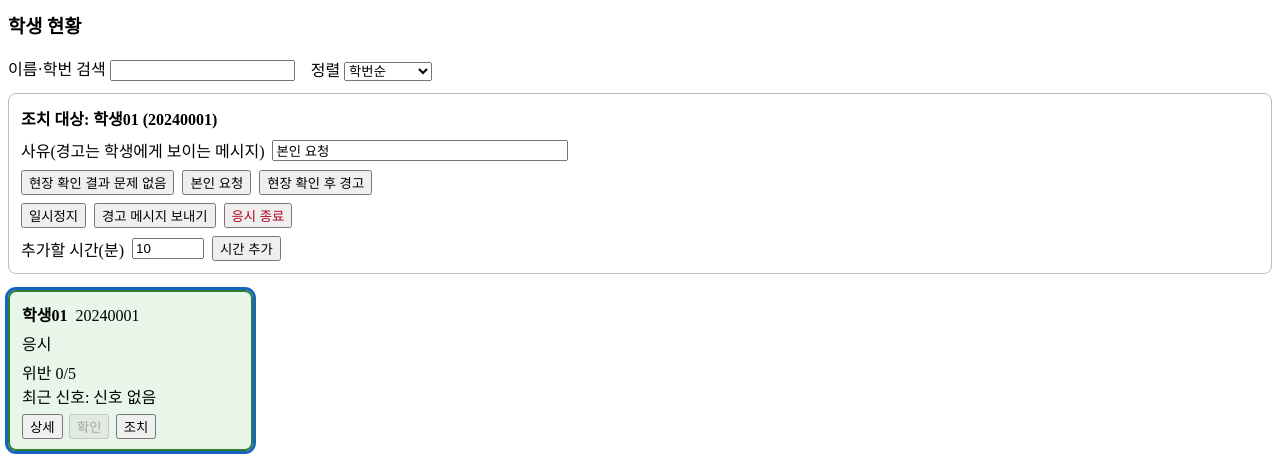
Test: 감독 대시보드 › 시간 추가: 1~60분 정수만 허용한다
This screenshot has width=1280, height=471.
Earlier steps of the test are not shown.
Later steps or results of the test are not shown.
Replace the text in the field labelled "추가할 시간(분)" with "0" at point(168, 249), box [132,238,204,259]
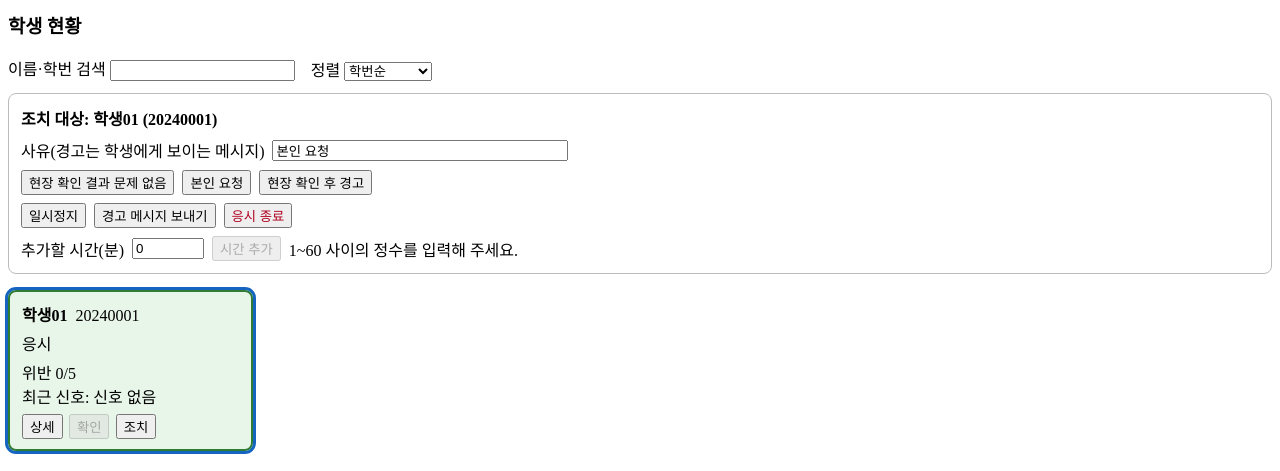
expect the button "시간 추가" is disabled: met, box [212,236,281,261]
Replace the text in the field labelled "추가할 시간(분)" with "61" at point(168, 249), box [132,238,204,259]
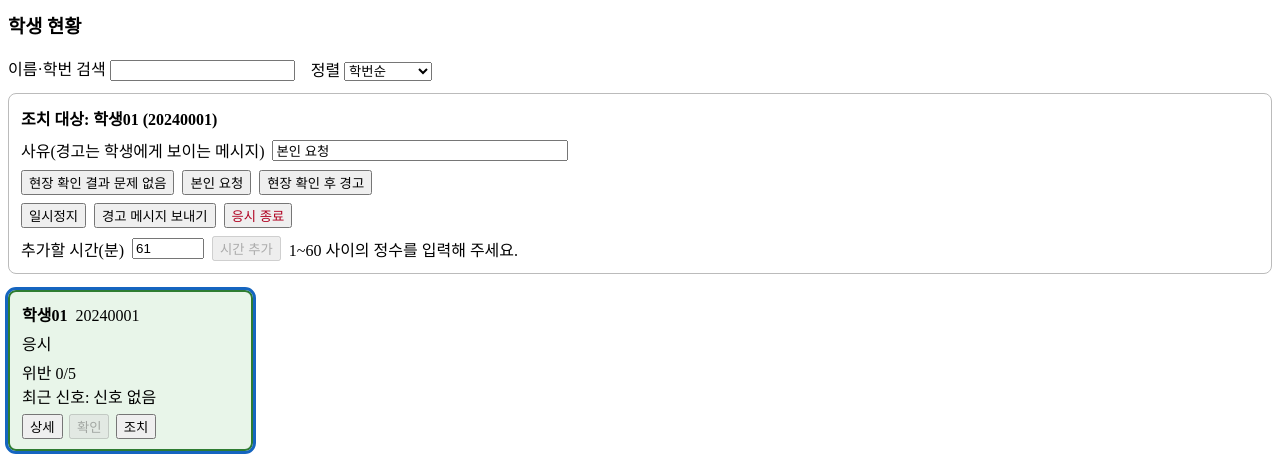
expect the button "시간 추가" is disabled: met, box [212,236,281,261]
Replace the text in the field labelled "추가할 시간(분)" with "1.5" at point(168, 249), box [132,238,204,259]
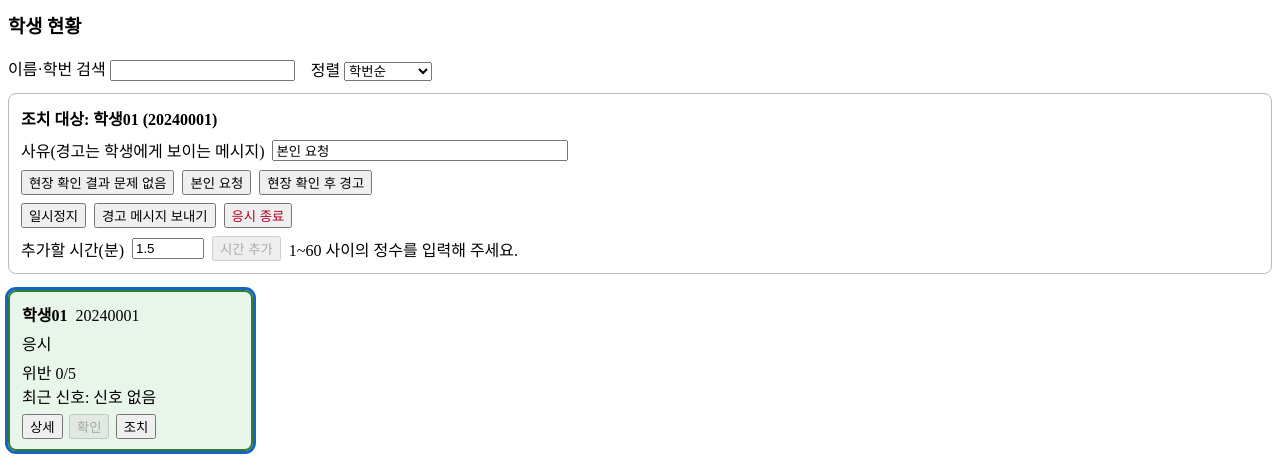
expect the button "시간 추가" is disabled: met, box [212,236,281,261]
Clear the field labelled "추가할 시간(분)" at point(168, 249), box [132,238,204,259]
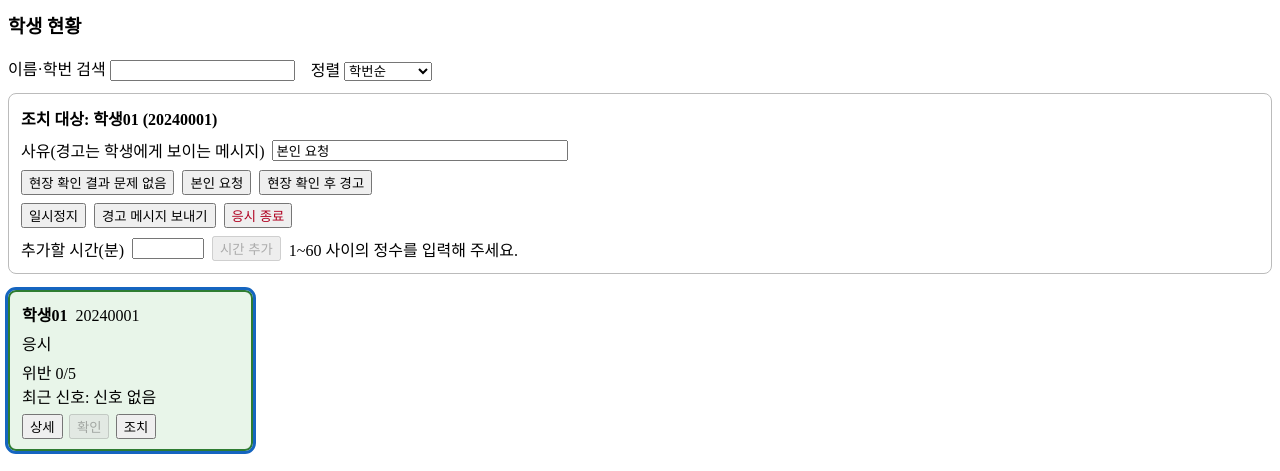
expect the button "시간 추가" is disabled: met, box [212,236,281,261]
Type "-3" into the field labelled "추가할 시간(분)".
click(168, 249); type("-3")  # box [132,238,204,259]
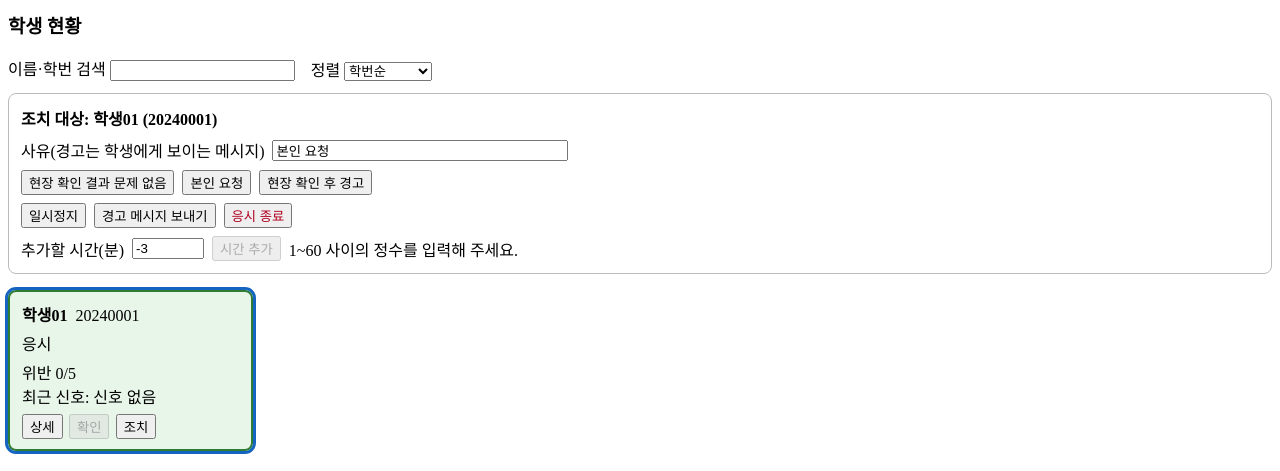
expect the button "시간 추가" is disabled: met, box [212,236,281,261]
Replace the text in the field labelled "추가할 시간(분)" with "60" at point(168, 249), box [132,238,204,259]
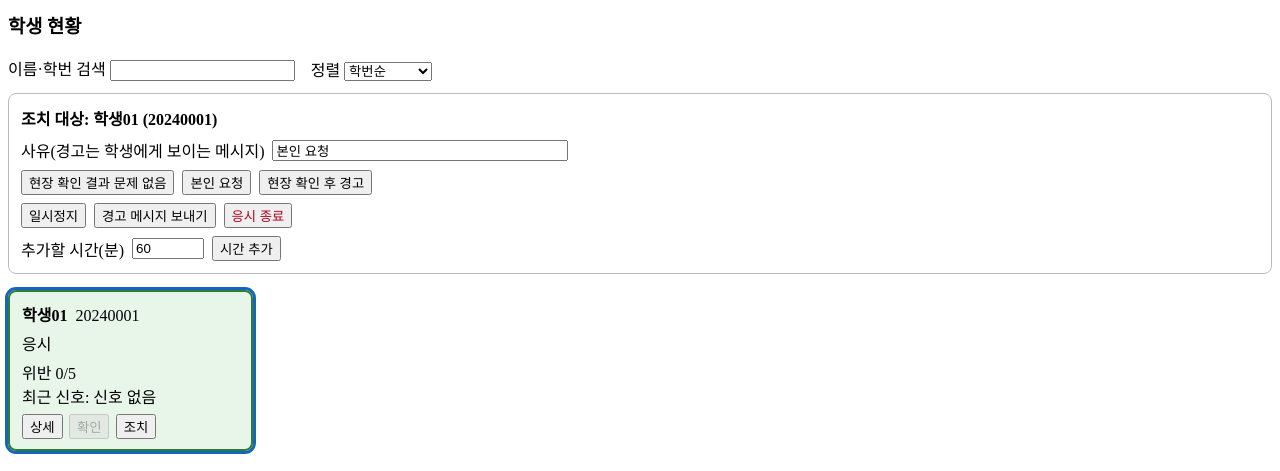
expect the button "시간 추가" is enabled: met, box [212,236,281,261]
